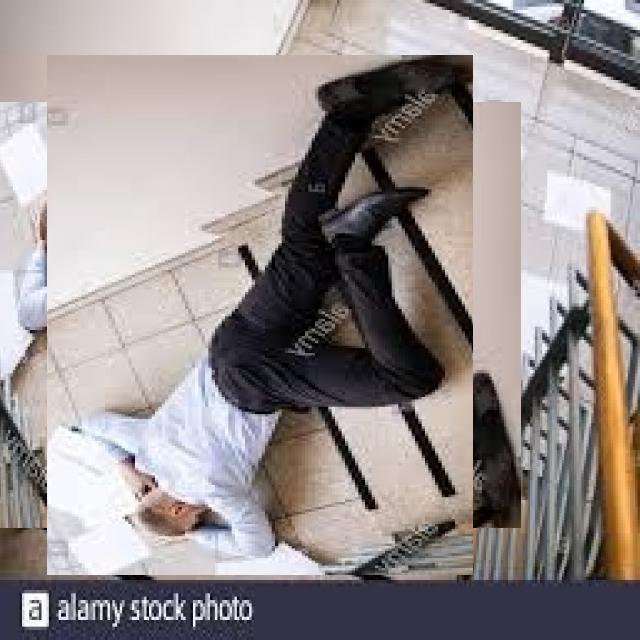Fall: (44, 69, 473, 577)
